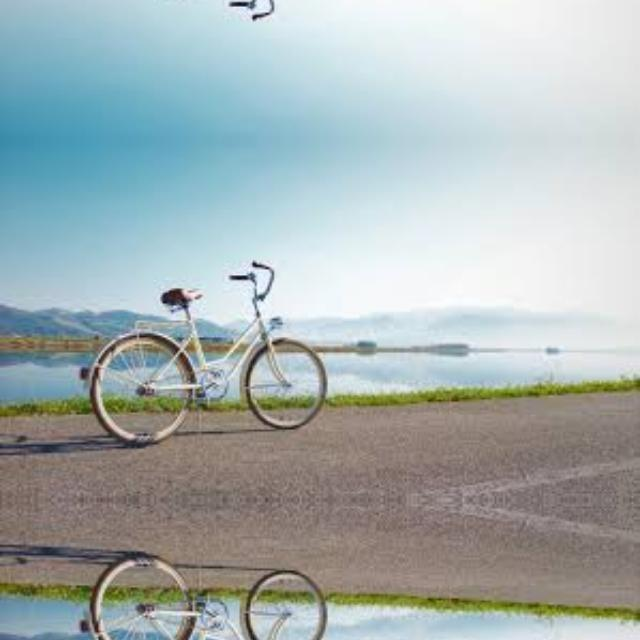obstacle: (56, 255, 358, 442), (56, 556, 358, 640), (56, 0, 358, 24)
